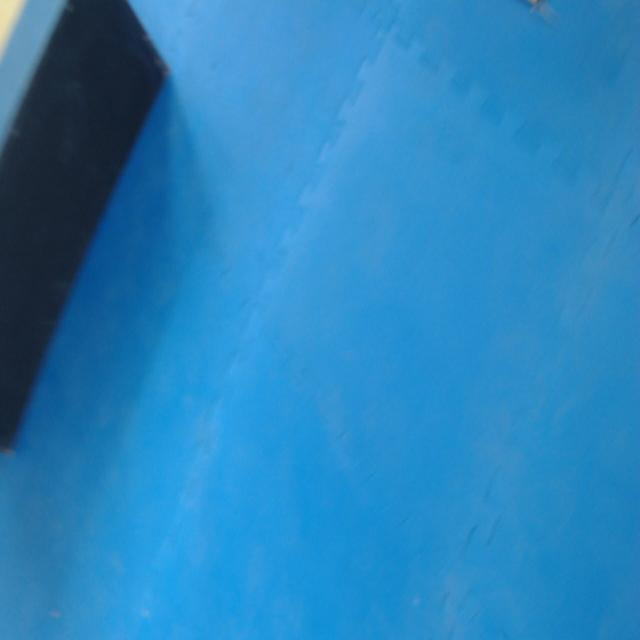base_inicio: (0, 0, 25, 65)
